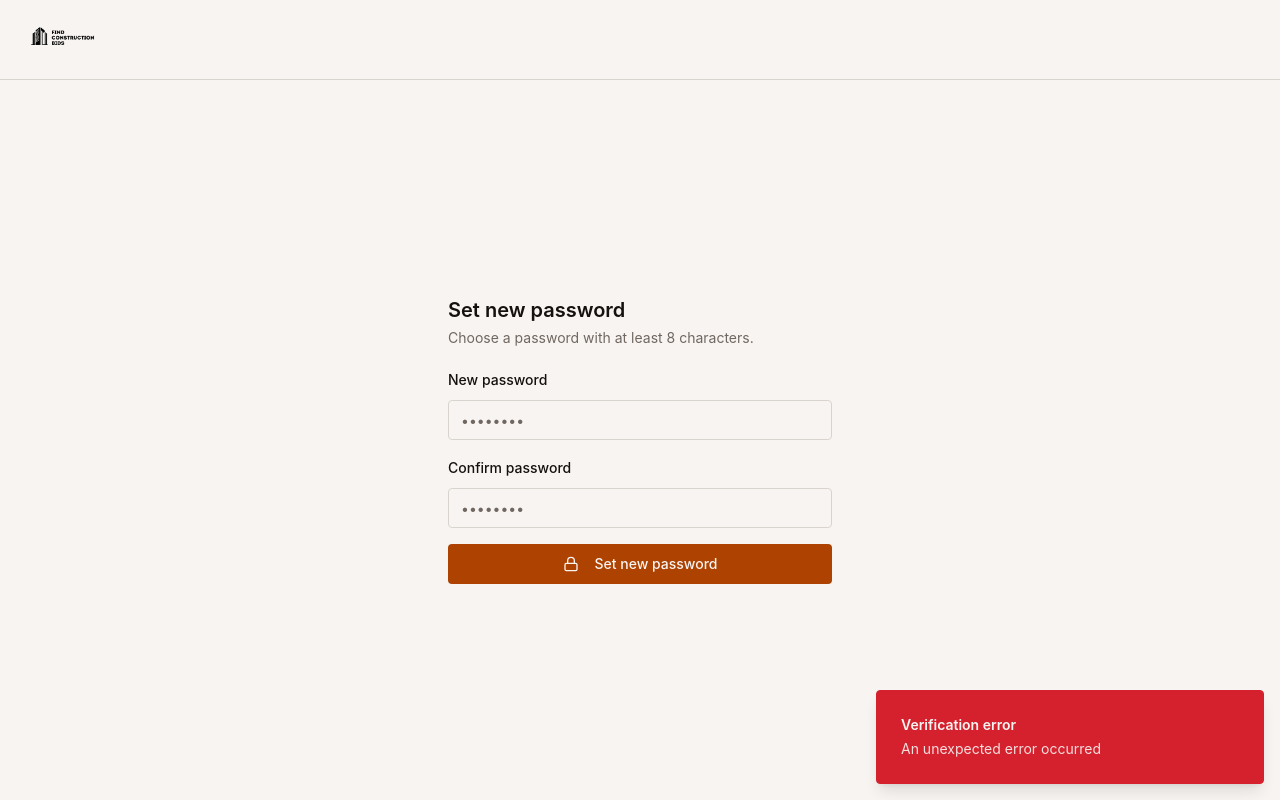
it: ResetPasswordPage › valid token in URL › shows a "Reset error" toast when the reset API returns an error
This screenshot has width=1280, height=800.
Type "NewPassword1" into the password field with test id "input-password" at x=640, y=420, box [448,400,832,440]
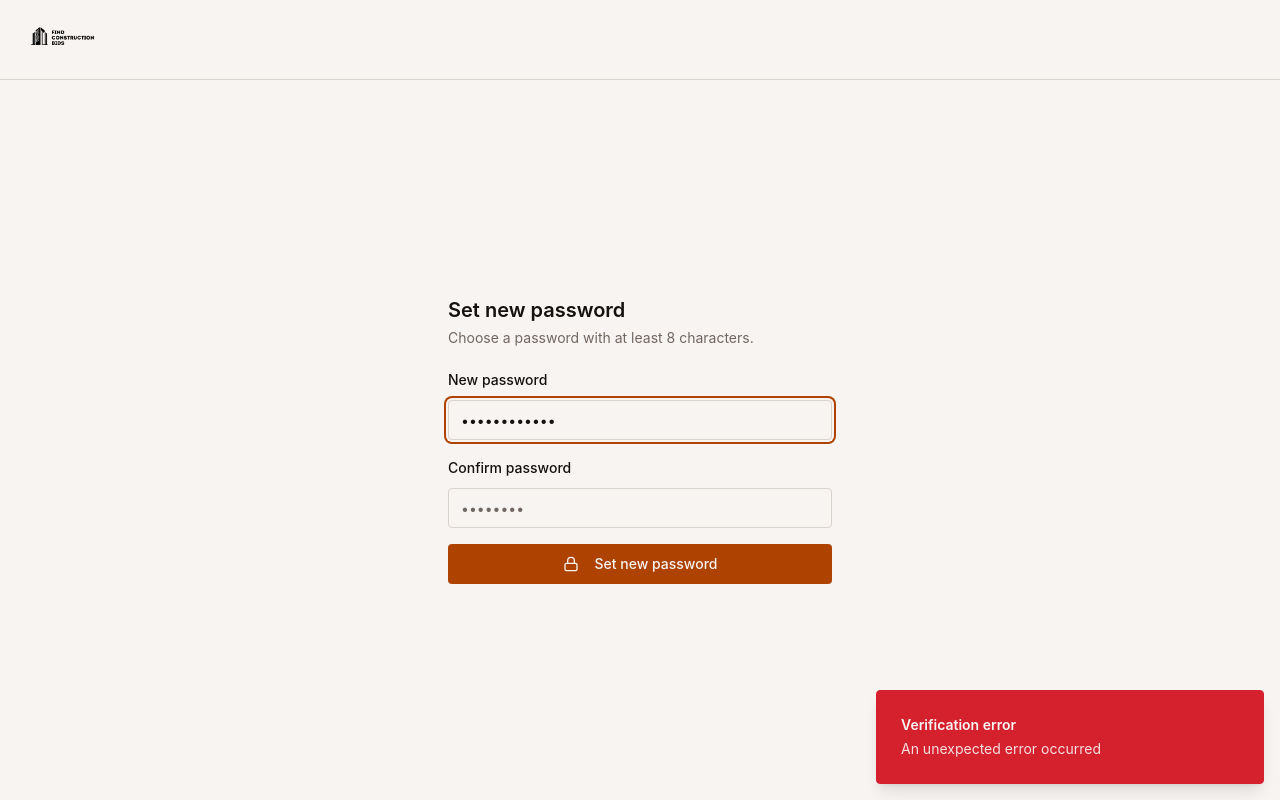
Type "NewPassword1" into the password field with test id "input-confirm-password" at x=640, y=508, box [448,488,832,528]
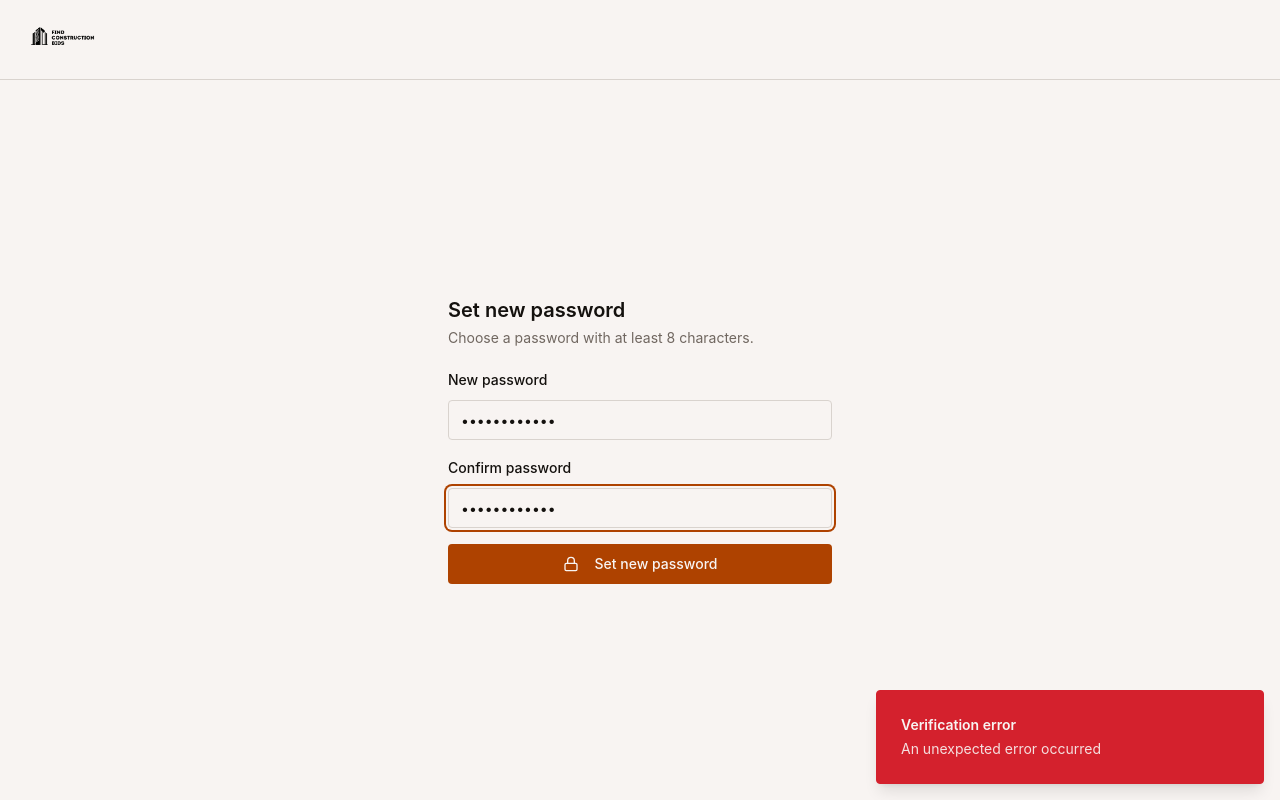
Click the button with test id "button-reset-password" at x=640, y=564, box [448,544,832,584]
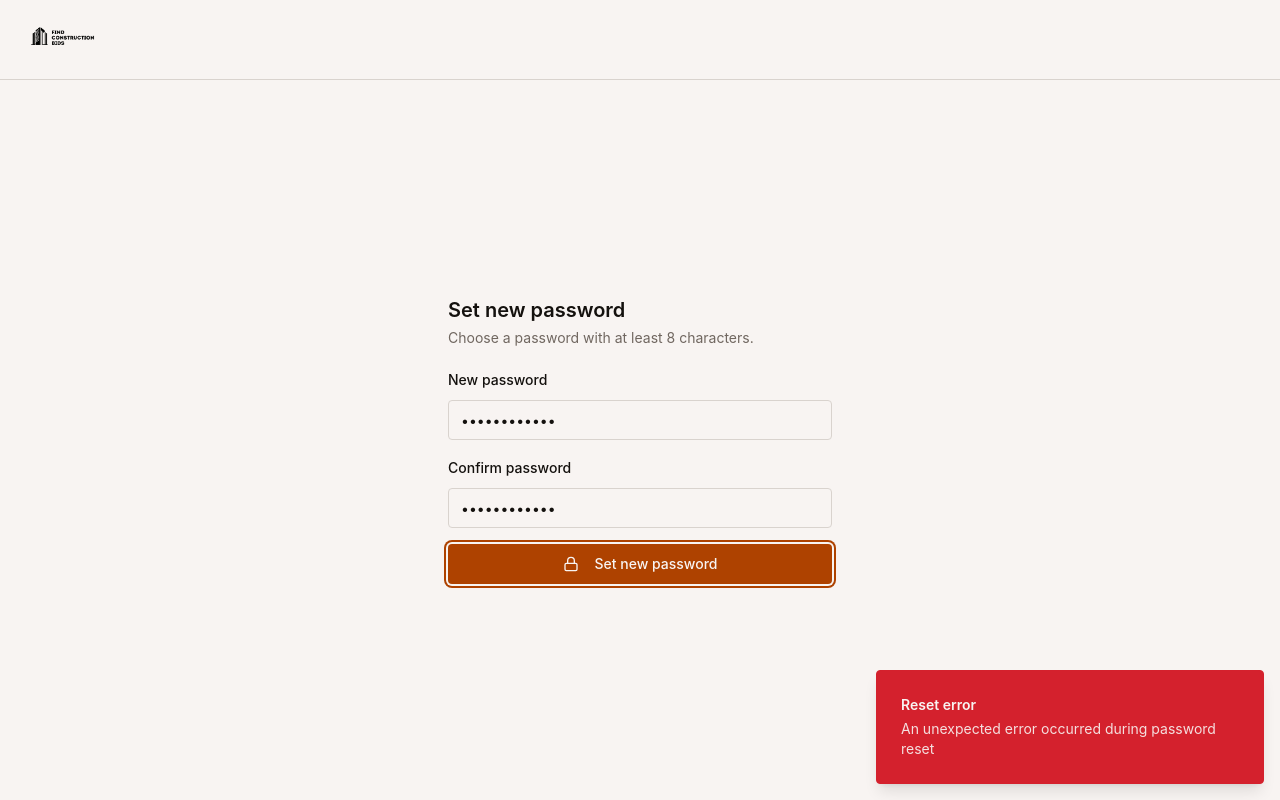
Expected: the text "Reset error" is shown, [901,696,976,713]
